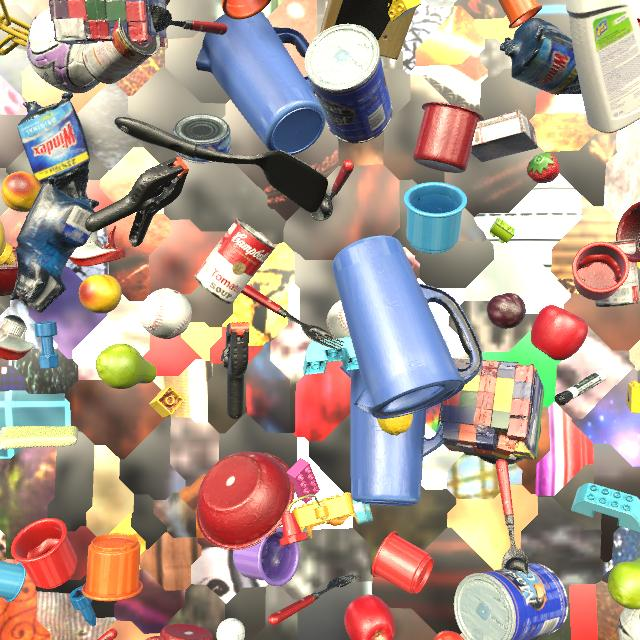ycb_002_master_chef_can: (304, 24, 393, 143), (454, 563, 569, 640)
ycb_005_tomato_soup_can: (194, 218, 275, 304), (82, 18, 160, 84), (590, 239, 640, 307)
ycb_006_mustard_bottle: (0, 221, 15, 266)
ycb_007_tuna_fish_can: (173, 114, 231, 164)
ycb_008_pudding_box: (471, 109, 538, 162)
ycb_012_strawberry: (527, 153, 559, 183)
ycb_013_apple: (531, 305, 588, 361), (344, 595, 395, 640)
ycb_014_lemon: (377, 414, 413, 436)
ycb_015_peach: (79, 275, 122, 314), (1, 172, 42, 212)
ycb_016_pear: (96, 343, 157, 389), (608, 557, 640, 610)
ycb_018_plum: (487, 293, 526, 329)
